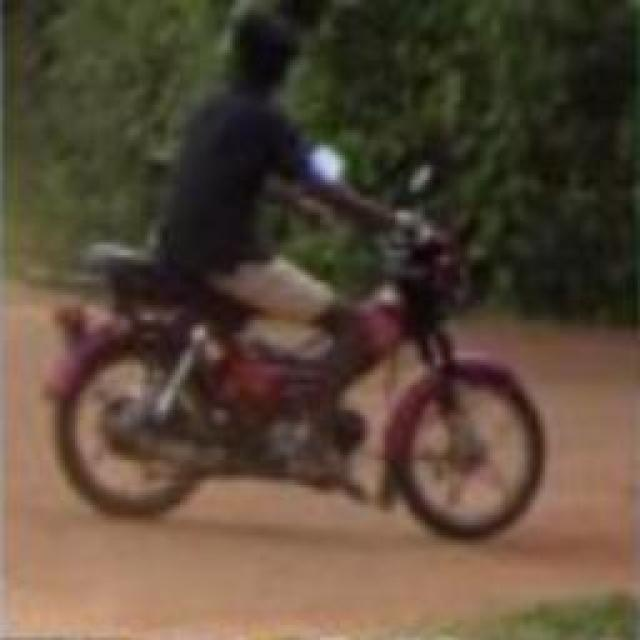motorbike: (52, 18, 550, 552)
